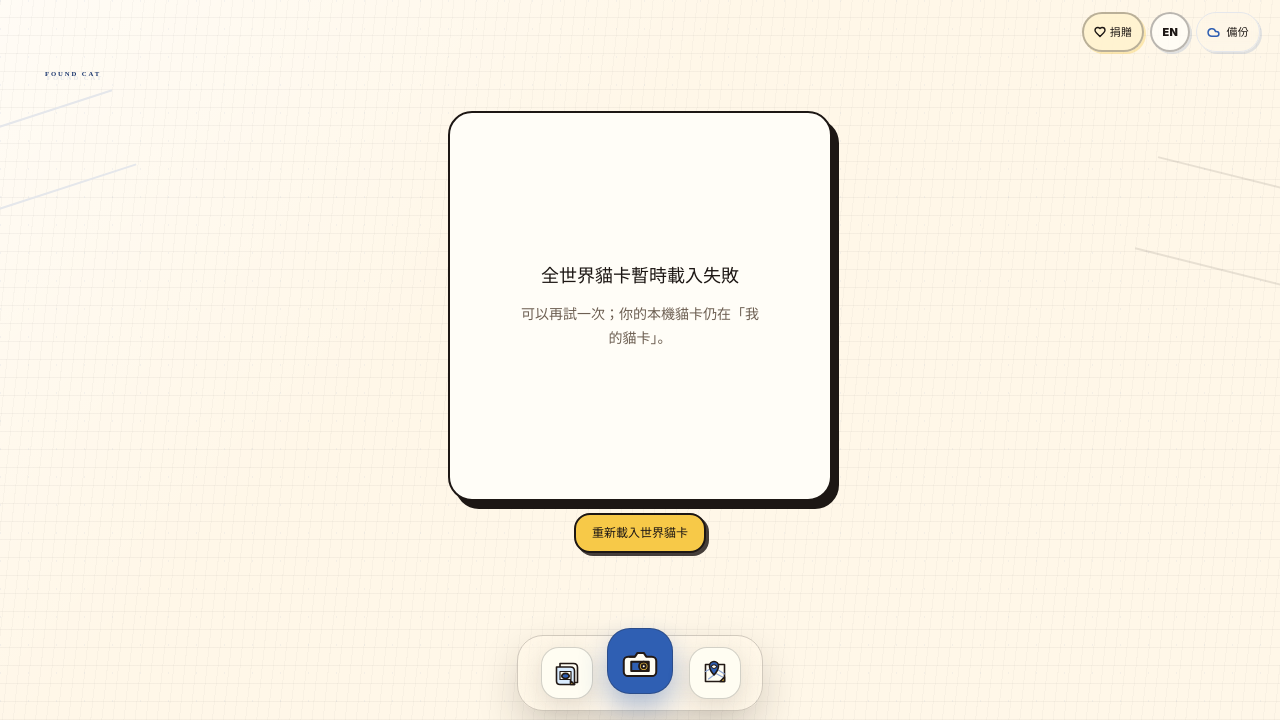
Test case: Home page › reloads world cat cards from the retryable failed state
What coordinates should you click on to do the following:
click the button "重新載入世界貓卡"
I would click on:
 (640, 533)
Its box is [574, 513, 706, 553].
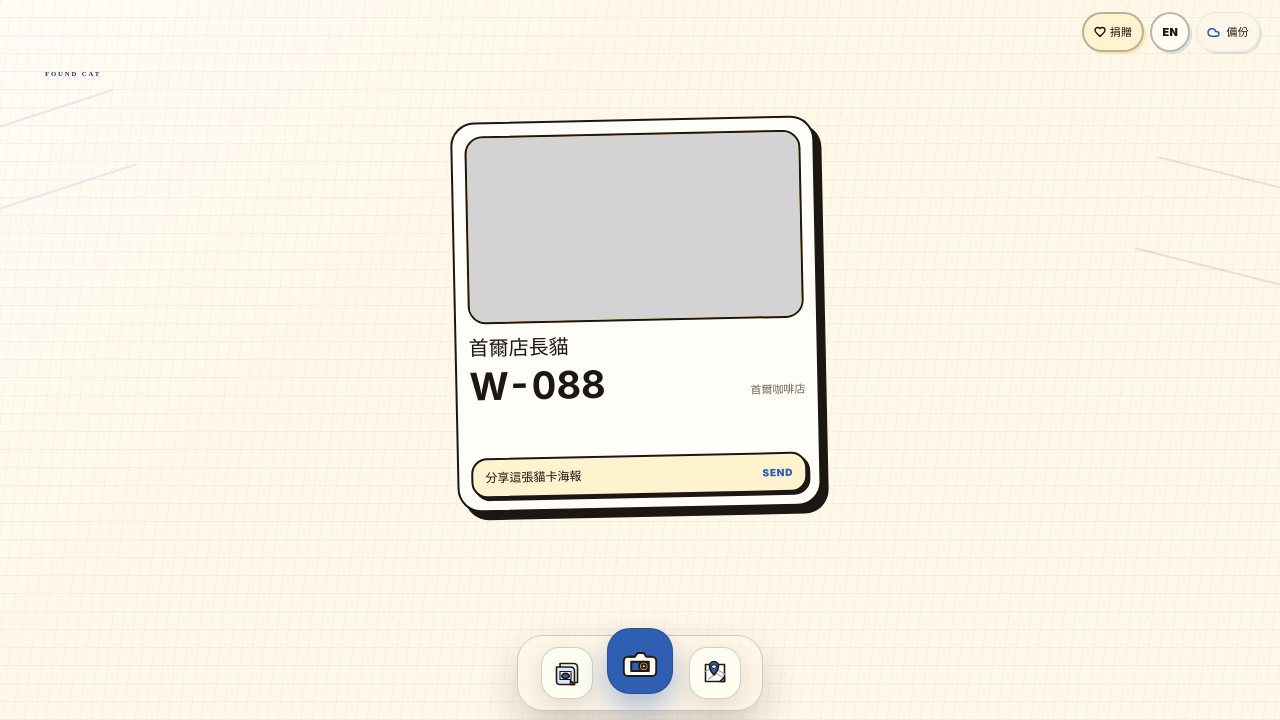
Expected: the text "首爾店長貓" is shown, [468, 334, 569, 361]
Expected: the text "全世界貓卡暫時載入失敗" is gone
